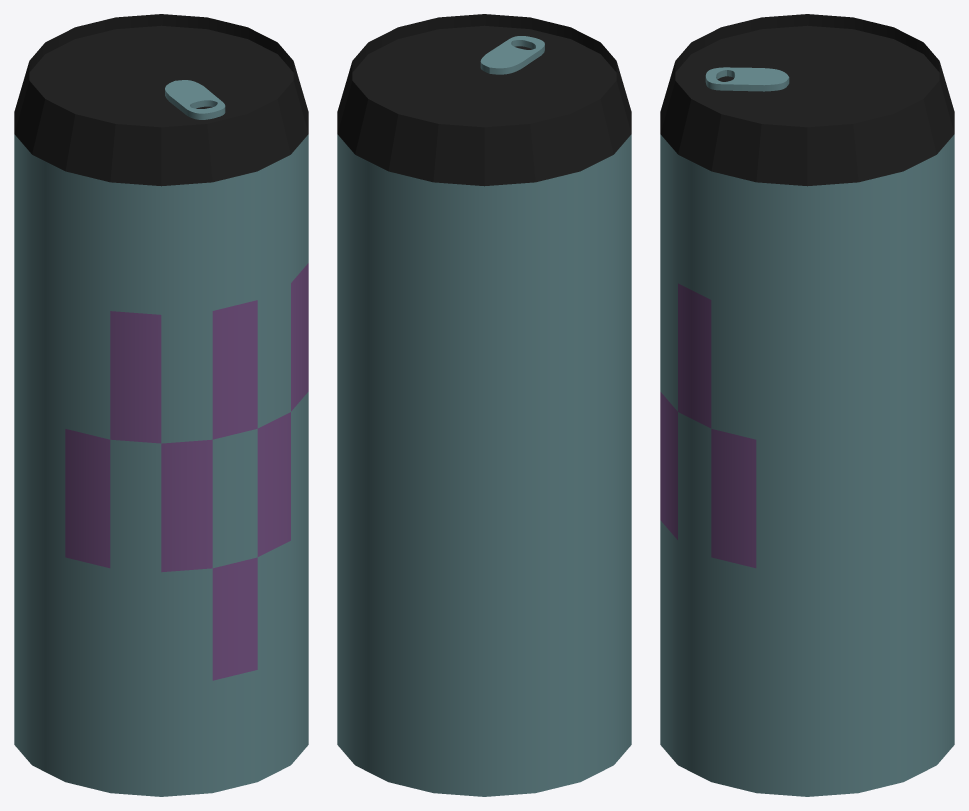
File: Energizante.fbx
3 views of the same model, side by side, from view 1: azimuth 30°, elevation 25°; view 2: azimuth 150°, elevation 25°; view 3: azimuth 270°, elevation 25° (orthographic).
Visible parts, largest first — view 1: Cylinder001; view 2: Cylinder001; view 3: Cylinder001.
Boxes of the visible parts, x1,y1,x2,y2 form: Cylinder001: (14, 14, 308, 796); Cylinder001: (337, 14, 631, 796); Cylinder001: (660, 14, 954, 796).
Size of the model in its own units: 0.0665 by 0.1628 by 0.0655.
